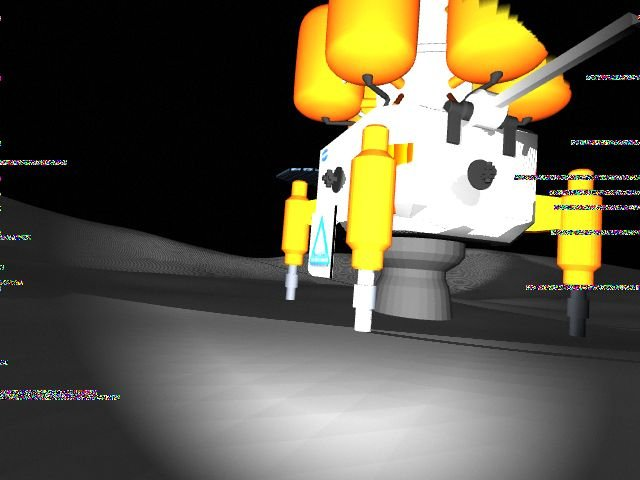basemarker: (308, 215, 331, 268)
